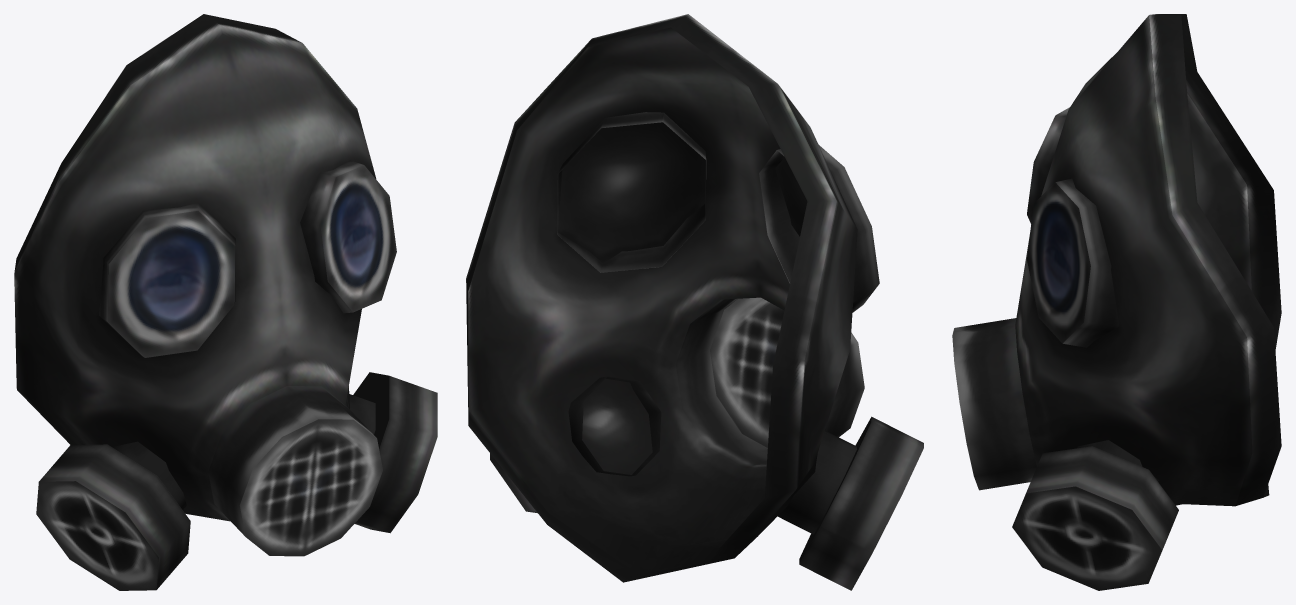
File: mask.FBX
3 renders of one model, left to right at view 1: azimuth 30°, elevation 25°; view 2: azimuth 150°, elevation 25°; view 3: azimuth 270°, elevation 25°, orthographic. The views are drawn at different scales.
Parts seen in each view (by area): view 1: mask; view 2: mask; view 3: mask.
Part boxes in pixels (left/top/right/bottom): mask: left=14, top=14, right=437, bottom=590; mask: left=466, top=14, right=923, bottom=590; mask: left=952, top=14, right=1281, bottom=590.
Size of the model in its own units: 41.67 by 54.24 by 31.44.
